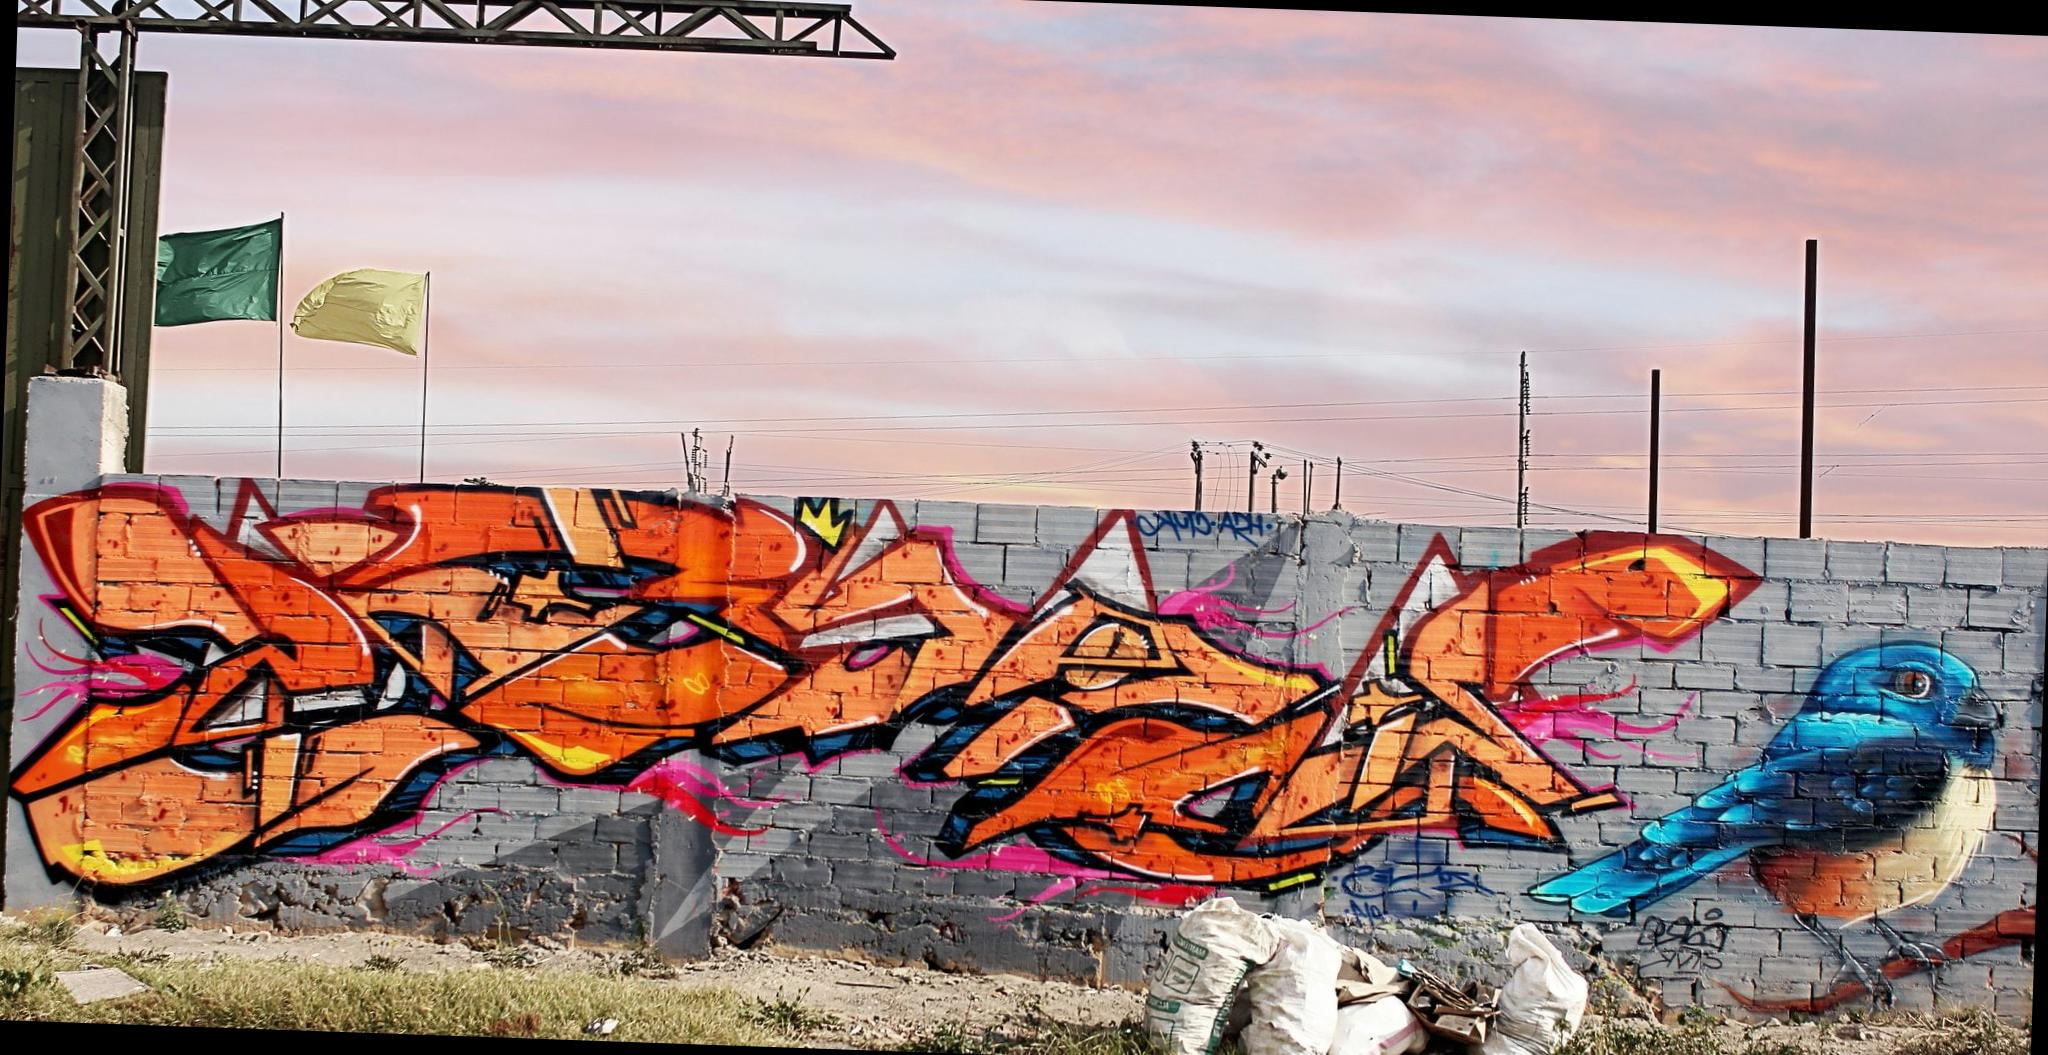graffiti: (5, 482, 1763, 947), (1533, 631, 2044, 1029)
trash: (1155, 891, 1340, 1055), (1488, 919, 1586, 1055), (1325, 961, 1416, 1055), (1399, 963, 1486, 1055)
